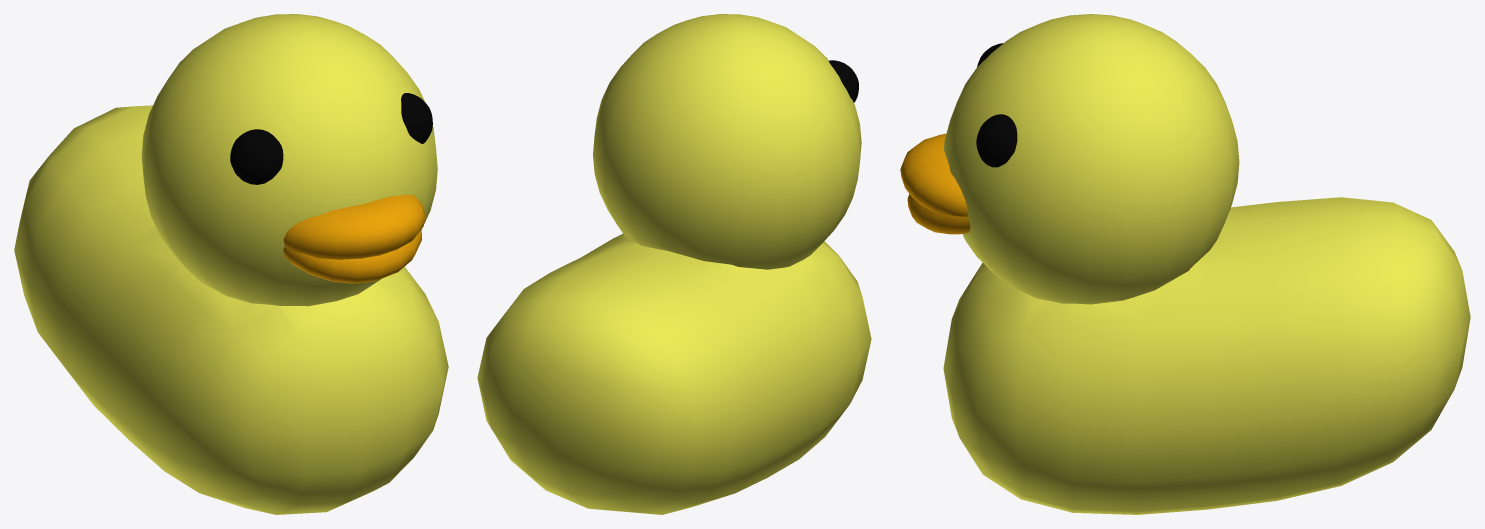
The model's file is RubberDucky.fbx.
The picture shows the model from 3 angles, left to right: view 1: azimuth 30°, elevation 25°; view 2: azimuth 150°, elevation 25°; view 3: azimuth 270°, elevation 25°; orthographic projection. The views are drawn at different scales.
Parts seen in each view (by area): view 1: polySurface1, pTorus1, pTorus2, pSphere3, pSphere2; view 2: polySurface1, pSphere3; view 3: polySurface1, pTorus1, pSphere2, pTorus2.
Boxes of the visible parts, box(x1,y1,x2,y2) form: polySurface1: box(14, 14, 448, 514); pTorus1: box(283, 194, 425, 259); pTorus2: box(283, 229, 421, 283); pSphere3: box(230, 129, 283, 184); pSphere2: box(401, 93, 432, 143); polySurface1: box(477, 14, 871, 514); pSphere3: box(829, 60, 858, 102); polySurface1: box(943, 14, 1470, 514); pTorus1: box(900, 133, 967, 216); pSphere2: box(976, 114, 1017, 167); pTorus2: box(907, 194, 970, 234).
Bounding box in the file's own units: 2.17 × 3.49 × 3.84.
